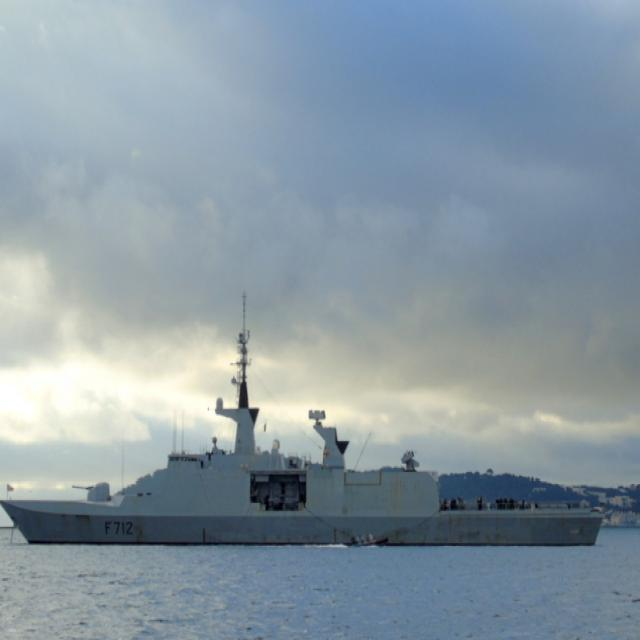Fragata: (1, 285, 611, 558)
